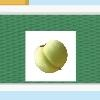ripe: (34, 39, 68, 74)
